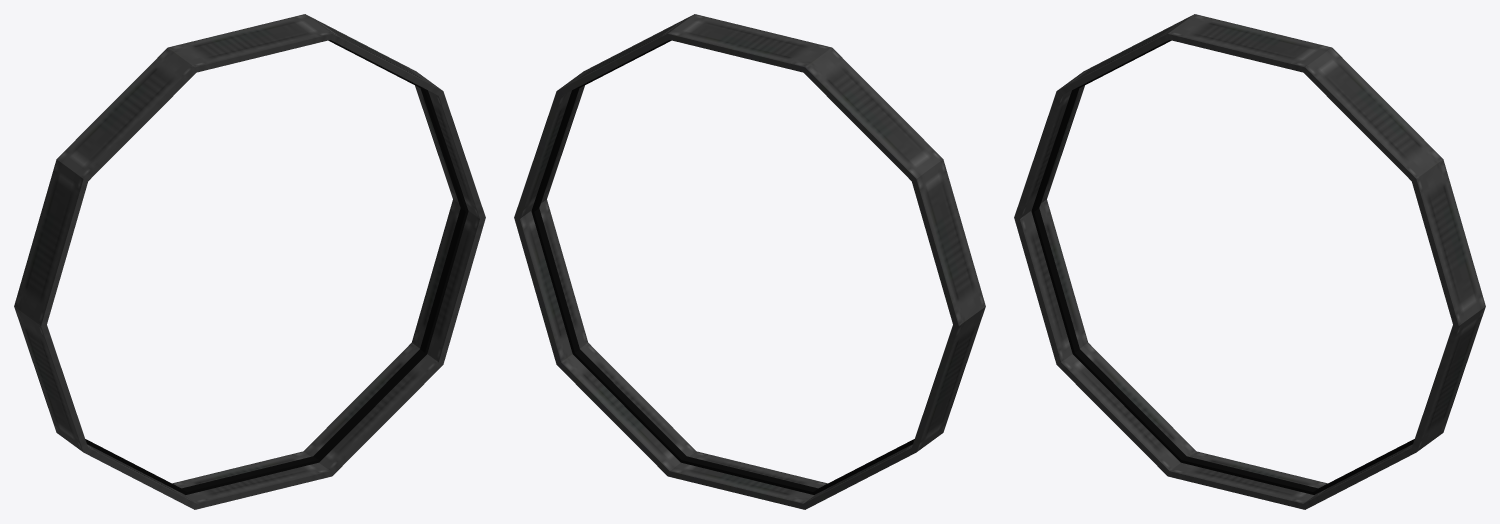
The model's file is colony-ring-art.glb.
3 views of the same model, side by side, from view 1: azimuth 30°, elevation 25°; view 2: azimuth 150°, elevation 25°; view 3: azimuth 330°, elevation 25° (orthographic).
Visible parts, largest first — view 1: Colony_Ring_Art; view 2: Colony_Ring_Art; view 3: Colony_Ring_Art.
Boxes of the visible parts, left/top/right/bottom form: Colony_Ring_Art: left=14, top=14, right=485, bottom=509; Colony_Ring_Art: left=514, top=14, right=985, bottom=509; Colony_Ring_Art: left=1014, top=14, right=1485, bottom=509.
Size of the model in its own units: 7.13 by 6.78 by 0.7511.
Materials: 2 (2 with a texture image).
